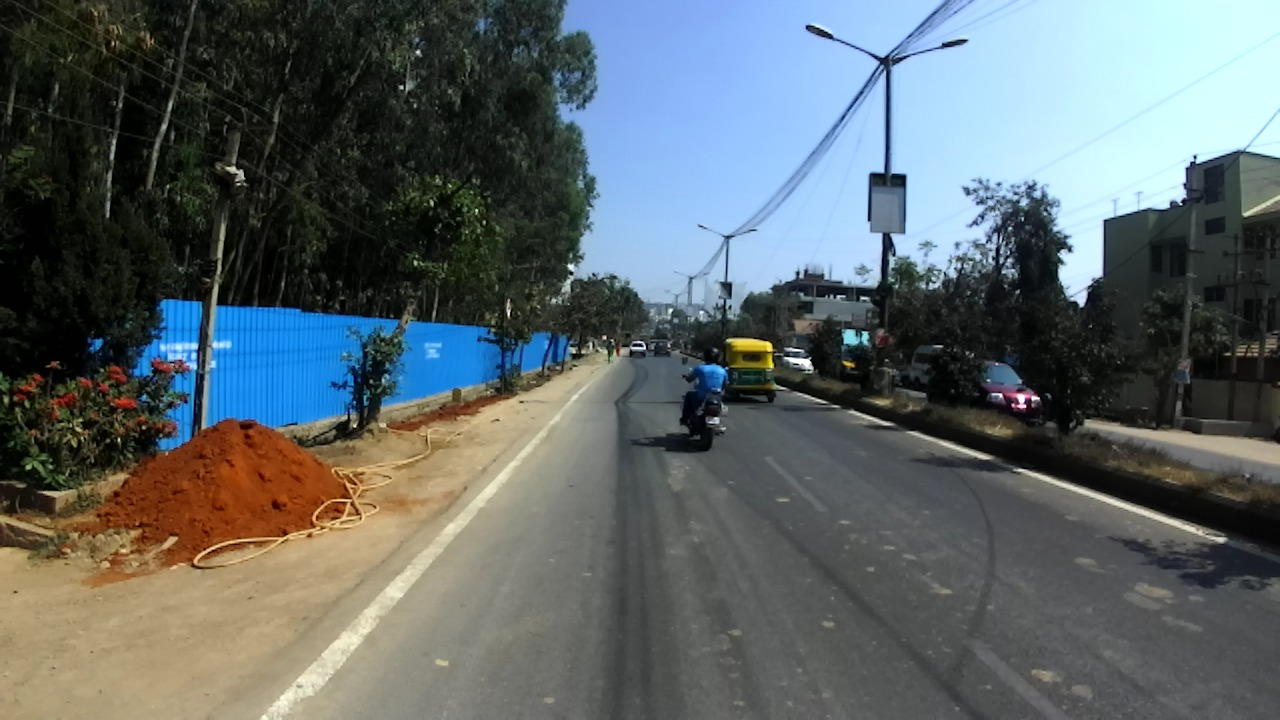autorickshaw: (722, 337, 776, 404)
car: (924, 358, 1043, 421), (909, 345, 973, 391), (868, 359, 909, 387), (782, 347, 815, 376), (629, 340, 647, 357), (654, 340, 672, 357), (647, 339, 662, 353)
motorcycle: (678, 365, 735, 451), (1044, 390, 1082, 432)
person: (606, 339, 613, 362), (615, 340, 622, 356)
rider: (679, 346, 741, 426)
truck: (826, 328, 875, 382), (618, 331, 632, 346)
vehicle fallback: (568, 342, 588, 357)
